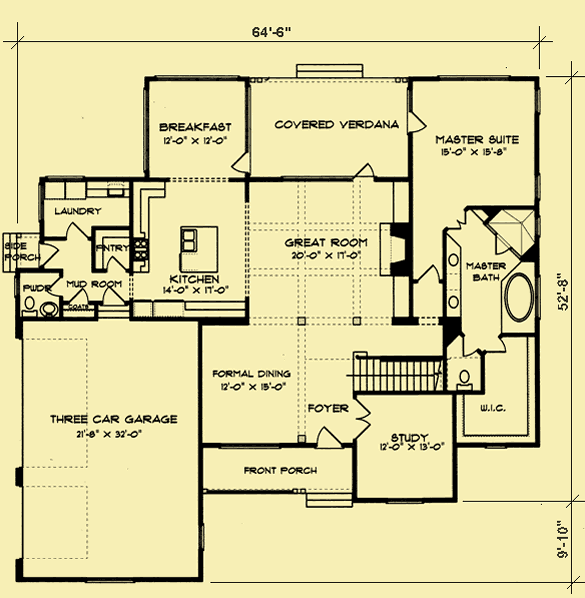door: (348, 395, 372, 441), (405, 109, 430, 137), (39, 239, 62, 268), (97, 283, 125, 306), (317, 425, 344, 448), (455, 334, 478, 360), (481, 337, 509, 357), (443, 211, 471, 231), (40, 274, 63, 298), (62, 221, 89, 241), (354, 161, 378, 183), (67, 287, 91, 307), (415, 263, 439, 283), (230, 150, 249, 174), (105, 252, 126, 272)
large_sink: (452, 366, 476, 391), (22, 294, 39, 318)
small_sink: (444, 233, 464, 318)
stairs: (351, 350, 446, 395)
tub: (499, 261, 536, 333)
twin_sink: (180, 227, 200, 252)
